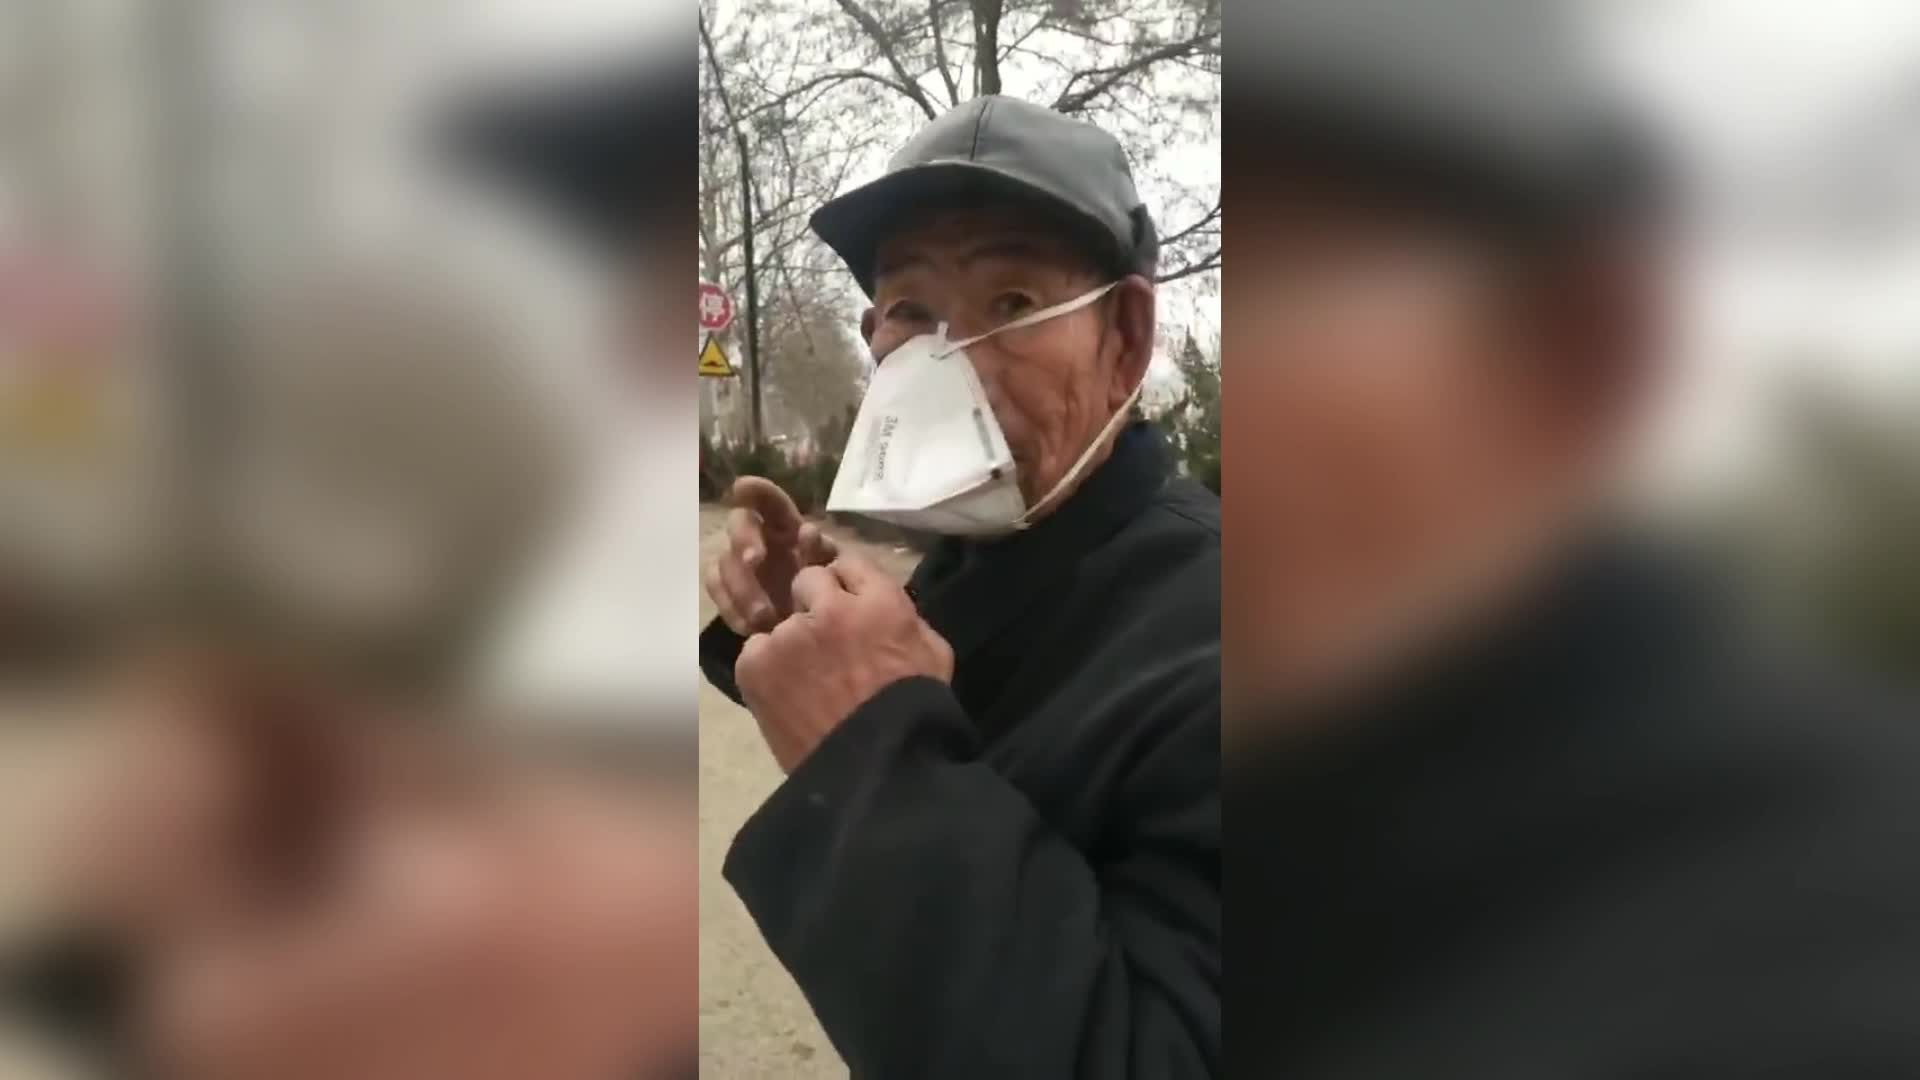mask_weared_incorrect: (849, 220, 1167, 526)
